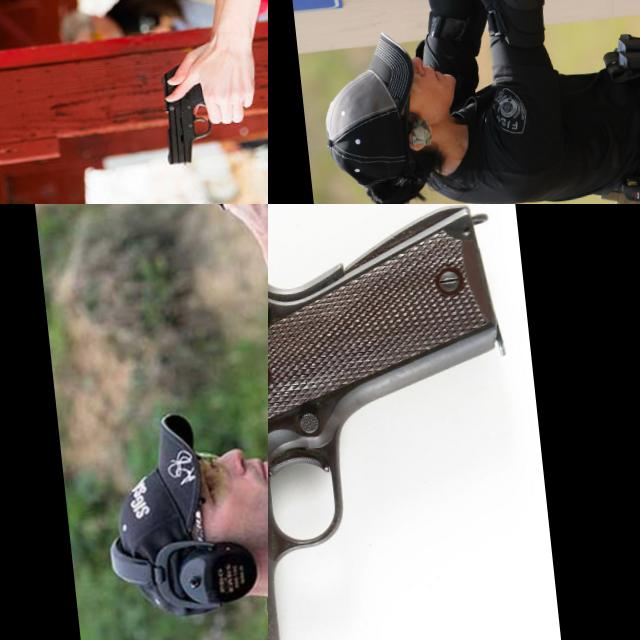handgun: (268, 204, 552, 640), (154, 59, 216, 166), (173, 204, 255, 284), (374, 0, 428, 55)
